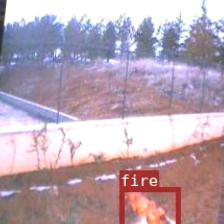fire: (118, 186, 179, 224)
